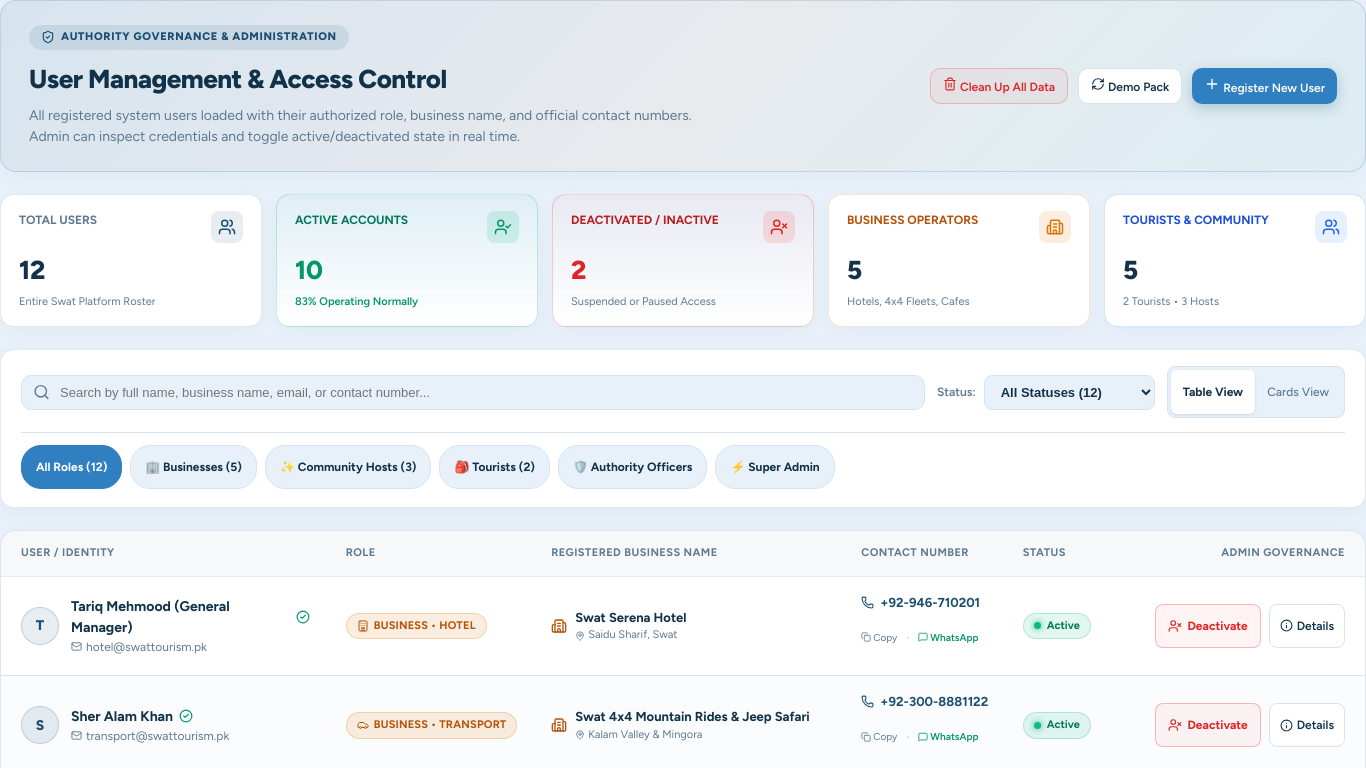
Test: User Management Page on Admin & Authority Portal › allows Admin to deactivate an active user and updates status
This screenshot has width=1366, height=768.
// Click Deactivate
Click the button with test id "btn-toggle-status-usr-biz-01": (1208, 626) [1156,604,1261,648]
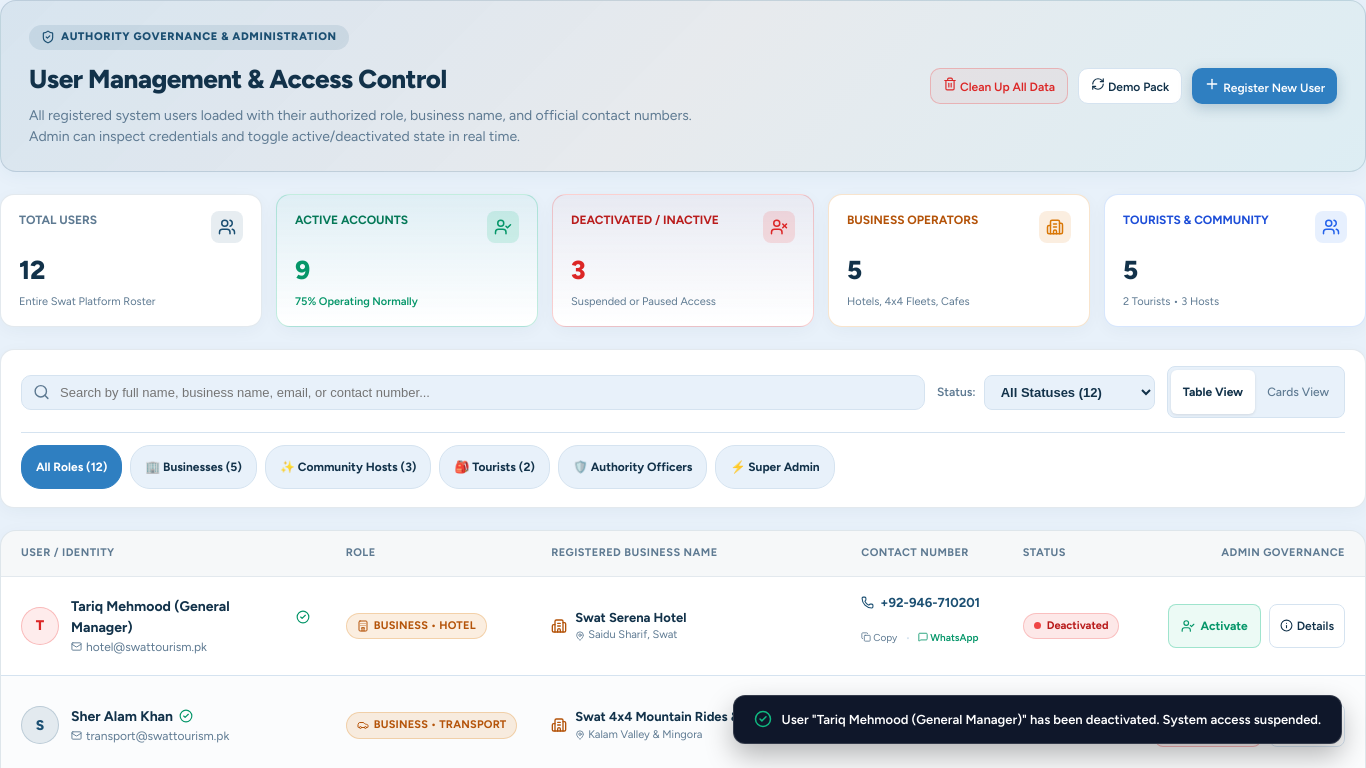
Expected: the button with test id "btn-toggle-status-usr-biz-01" reads "Activate", [1168,604,1261,648]
Expected: the text "has been deactivated" is shown, [782,712,1321,726]
